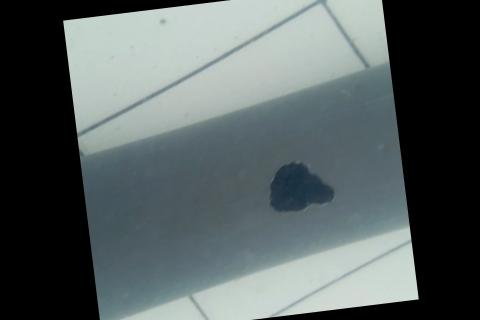kebocoran: (260, 157, 340, 218)
